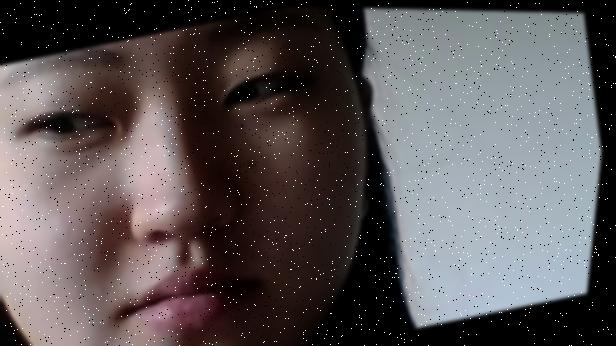eye: (45, 111, 80, 142), (230, 76, 264, 107)
iris: (39, 103, 119, 139), (224, 70, 295, 106)
